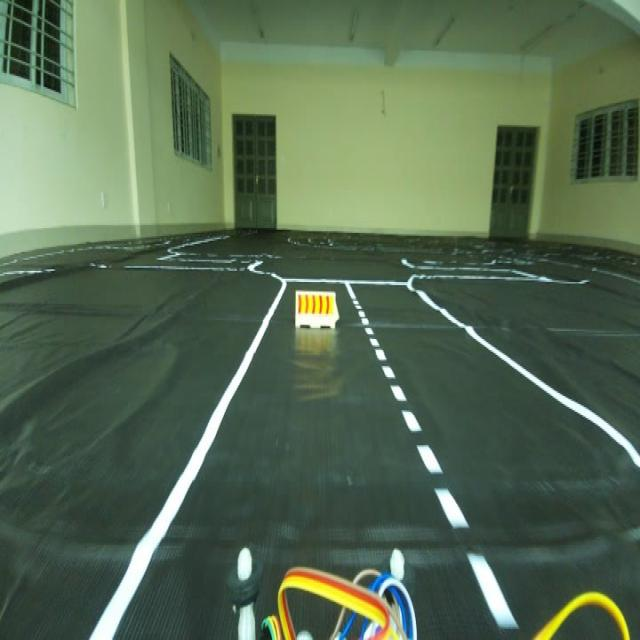roadblock: (289, 283, 343, 346)
